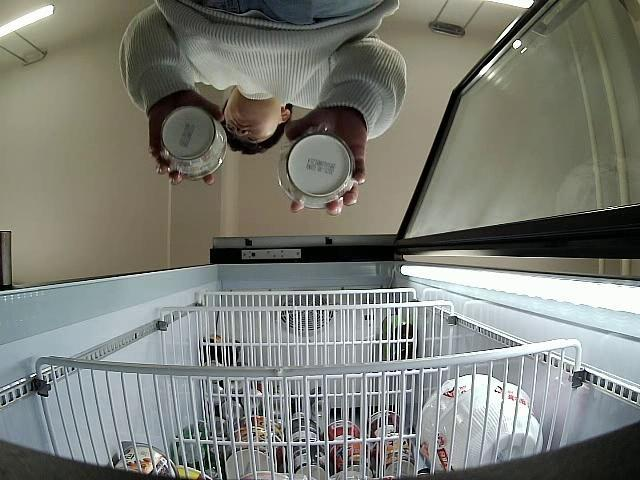04_chapagetti_S: (281, 135, 354, 205), (161, 107, 227, 174)
